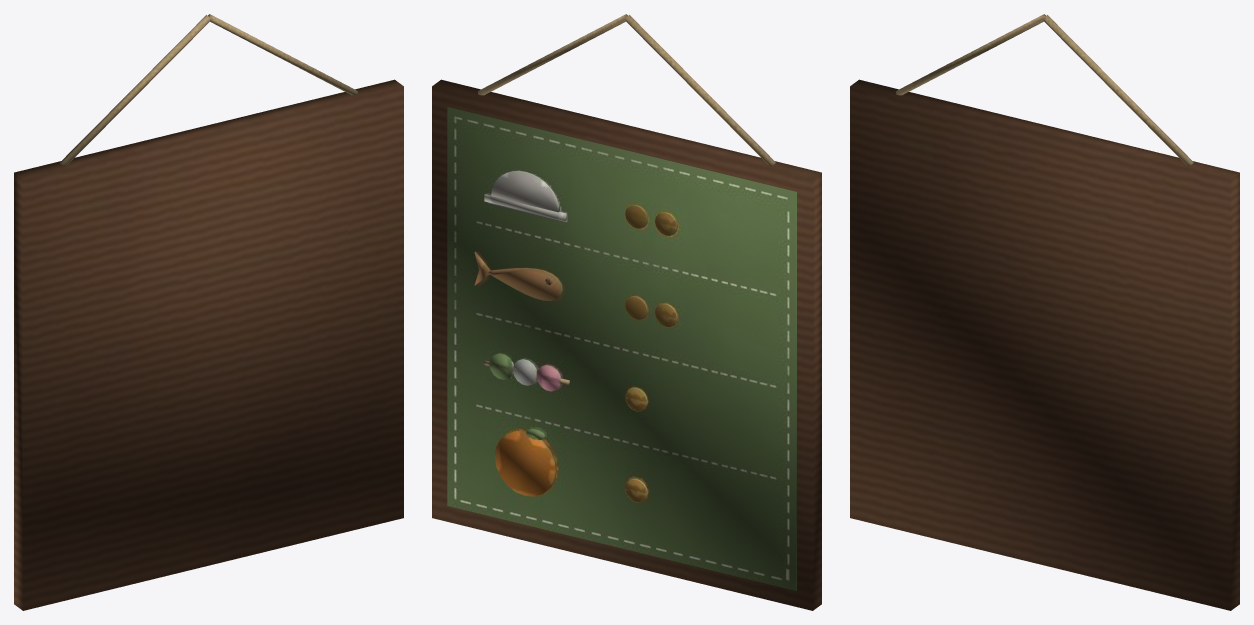
The model's file is menu_sweet.glb.
3 views of the same model, side by side, from view 1: azimuth 30°, elevation 25°; view 2: azimuth 150°, elevation 25°; view 3: azimuth 330°, elevation 25° (orthographic).
Visible parts, largest first — view 1: prop_menu_sweet_wood, prop_menu_sweet_felt; view 2: prop_menu_sweet_felt, prop_menu_sweet_wood; view 3: prop_menu_sweet_wood, prop_menu_sweet_felt.
Boxes of the visible parts, x1,y1,x2,y2 form: prop_menu_sweet_wood: [14, 79, 403, 610]; prop_menu_sweet_felt: [60, 14, 357, 166]; prop_menu_sweet_felt: [447, 14, 796, 590]; prop_menu_sweet_wood: [432, 79, 821, 610]; prop_menu_sweet_wood: [850, 79, 1239, 610]; prop_menu_sweet_felt: [896, 14, 1193, 166].
Bounding box in the file's own units: 1.92 × 2.63 × 0.1.
Materials: 2 (2 with a texture image).
